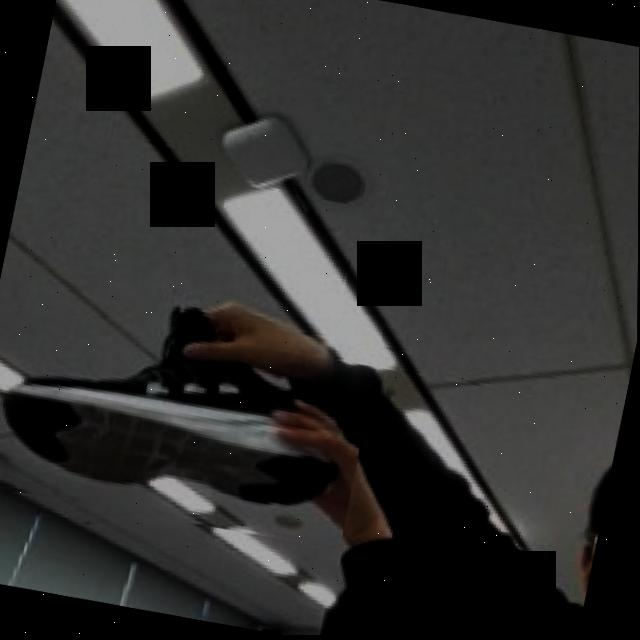shoe: (0, 236, 389, 555)
